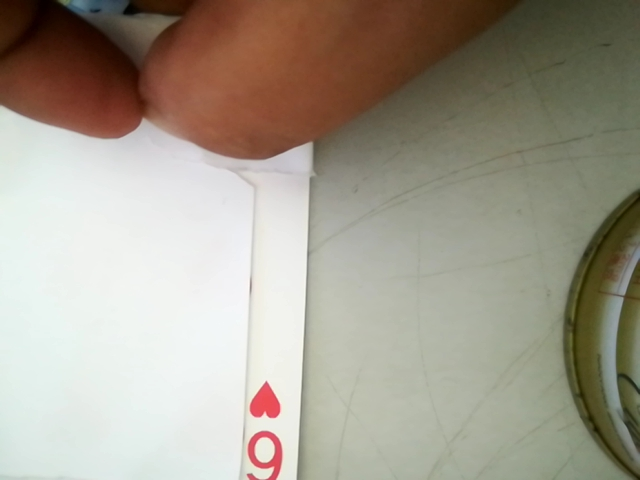hx 6: (224, 374, 291, 477)
